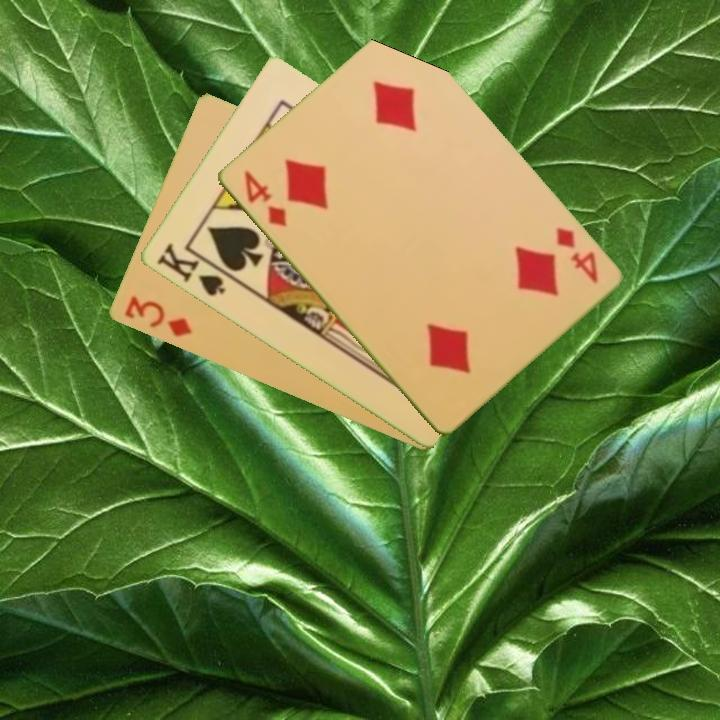3d: (120, 292, 194, 340)
4d: (239, 167, 289, 230), (551, 223, 601, 286)
Ks: (152, 239, 228, 300)
